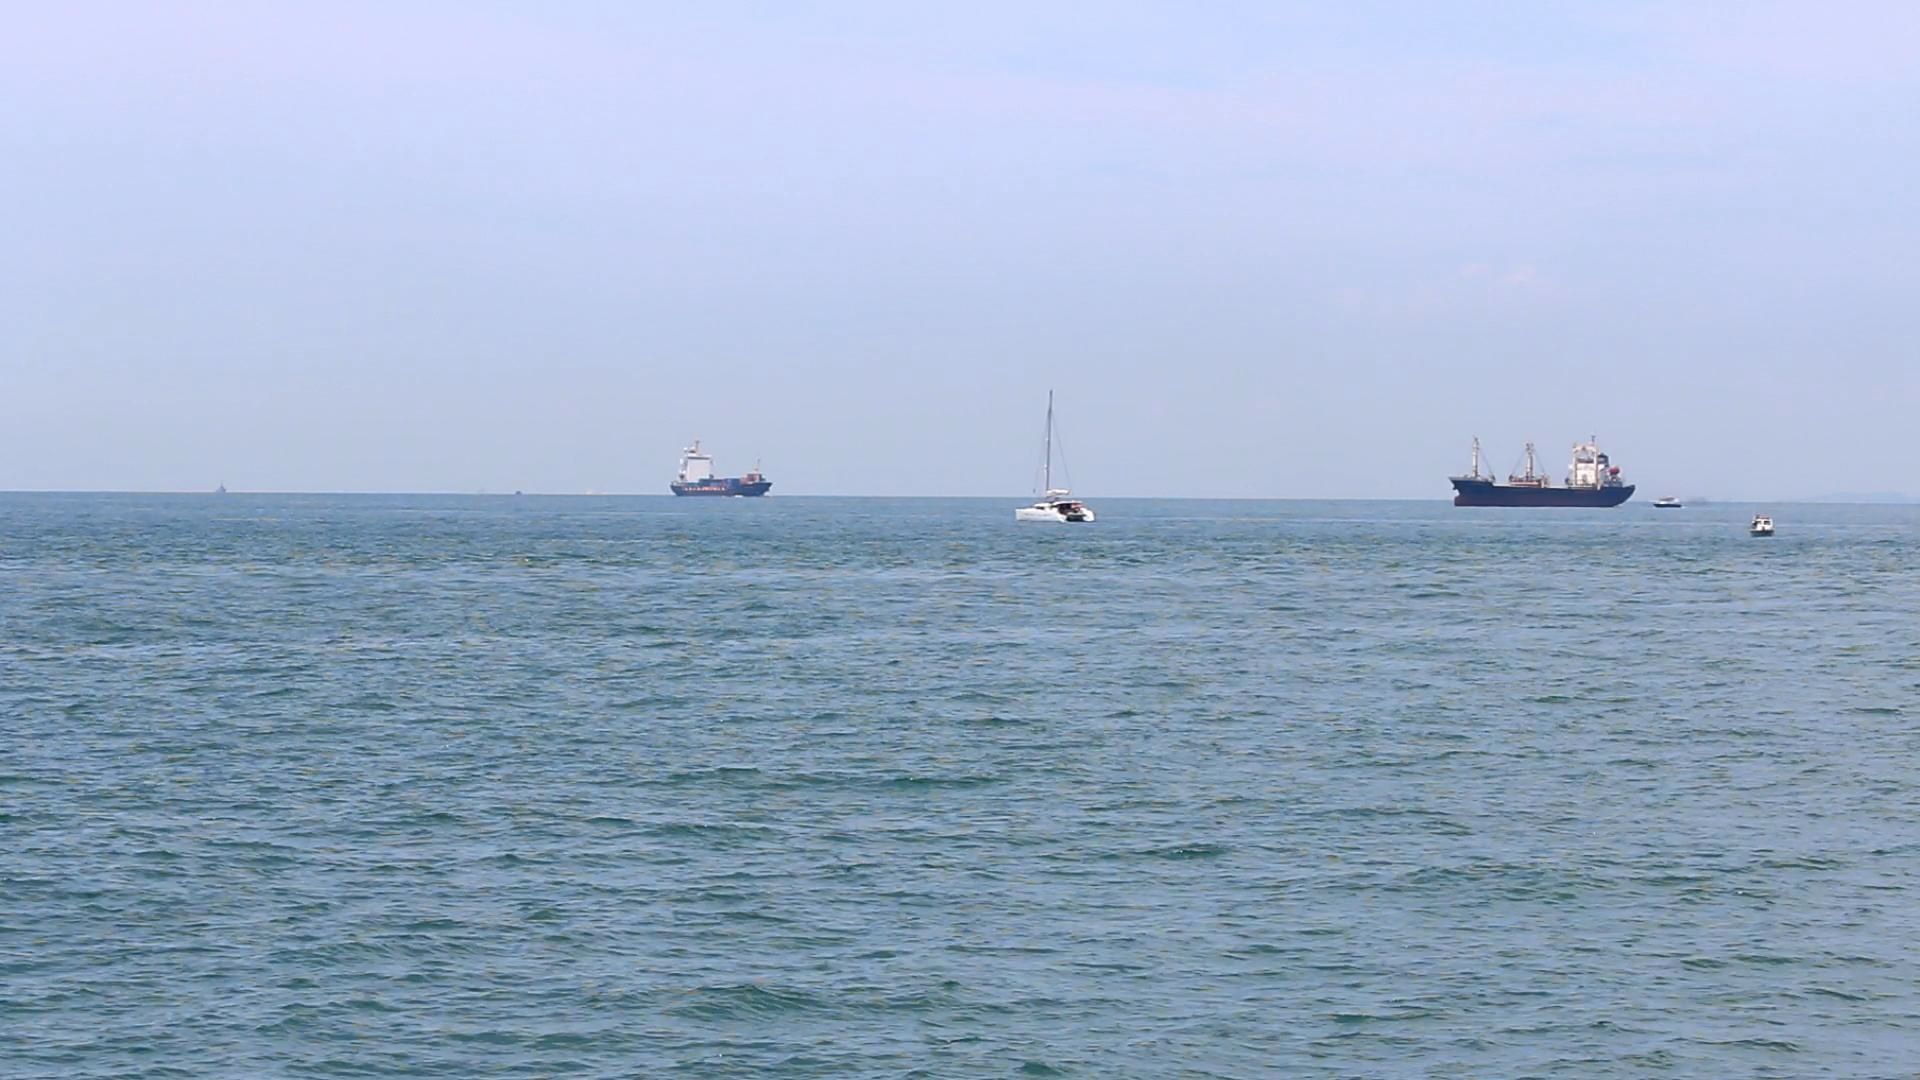Container Ship: (1451, 435, 1639, 509), (670, 438, 774, 500)
